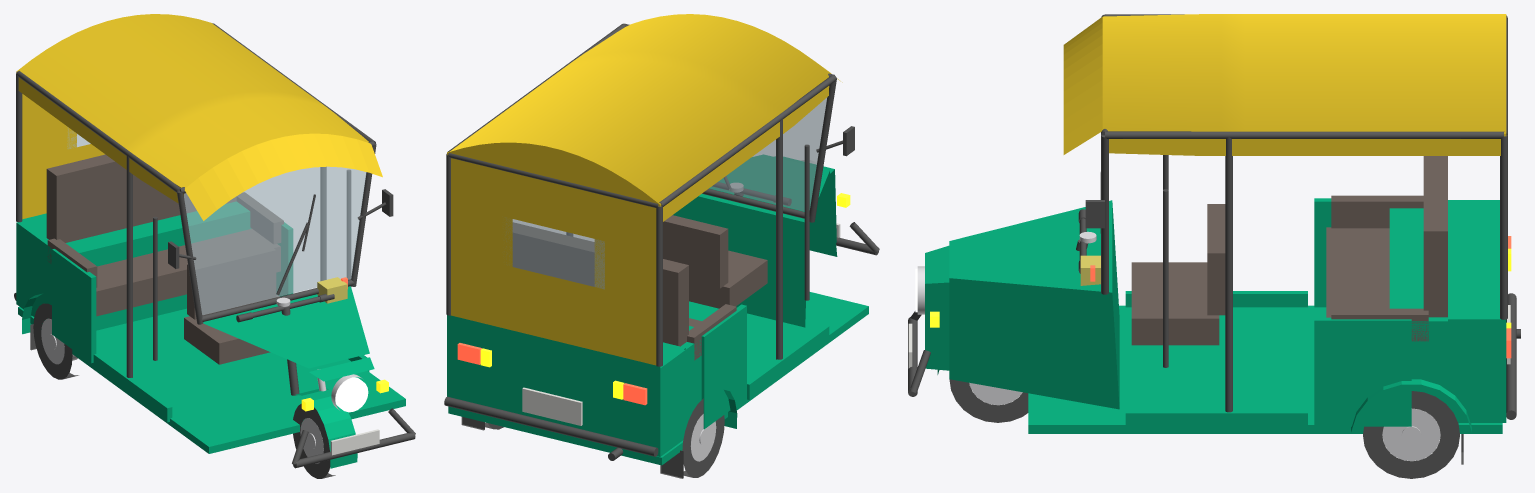
Rendered from auto_user.glb.
3 views of the same model, side by side, from view 1: azimuth 30°, elevation 25°; view 2: azimuth 150°, elevation 25°; view 3: azimuth 270°, elevation 25° (orthographic). The views are drawn at different scales.
Parts seen in each view (by area): view 1: Indian_Auto_Rickshaw; view 2: Indian_Auto_Rickshaw; view 3: Indian_Auto_Rickshaw.
Boxes of the visible parts, left/top/right/bottom form: Indian_Auto_Rickshaw: left=14, top=14, right=415, bottom=478; Indian_Auto_Rickshaw: left=444, top=14, right=879, bottom=478; Indian_Auto_Rickshaw: left=908, top=14, right=1520, bottom=478.
Bounding box in the file's own units: 1.28 × 1.72 × 2.52.
